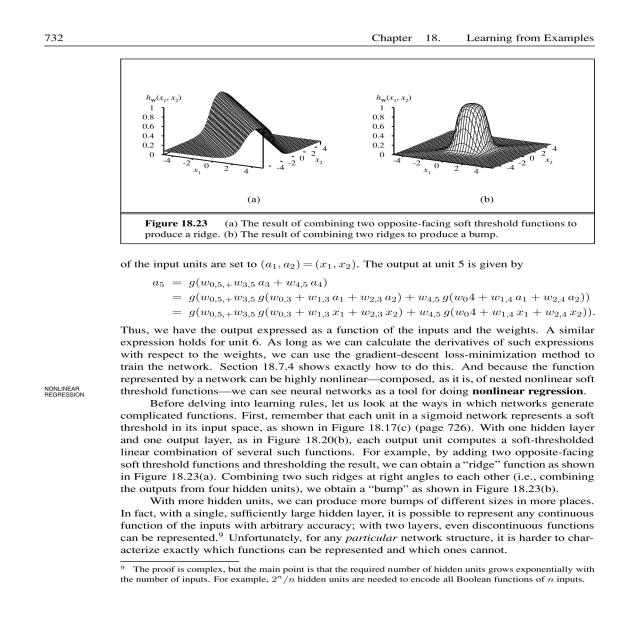diagram: (123, 56, 620, 244)
